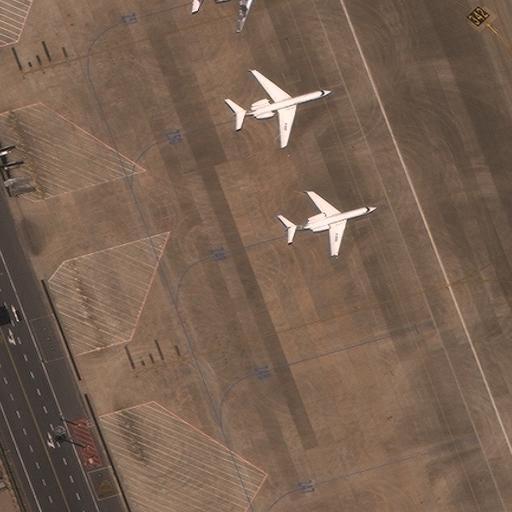Medium Civil Transport: (231, 69, 329, 150), (286, 191, 374, 256), (195, 0, 267, 32)
